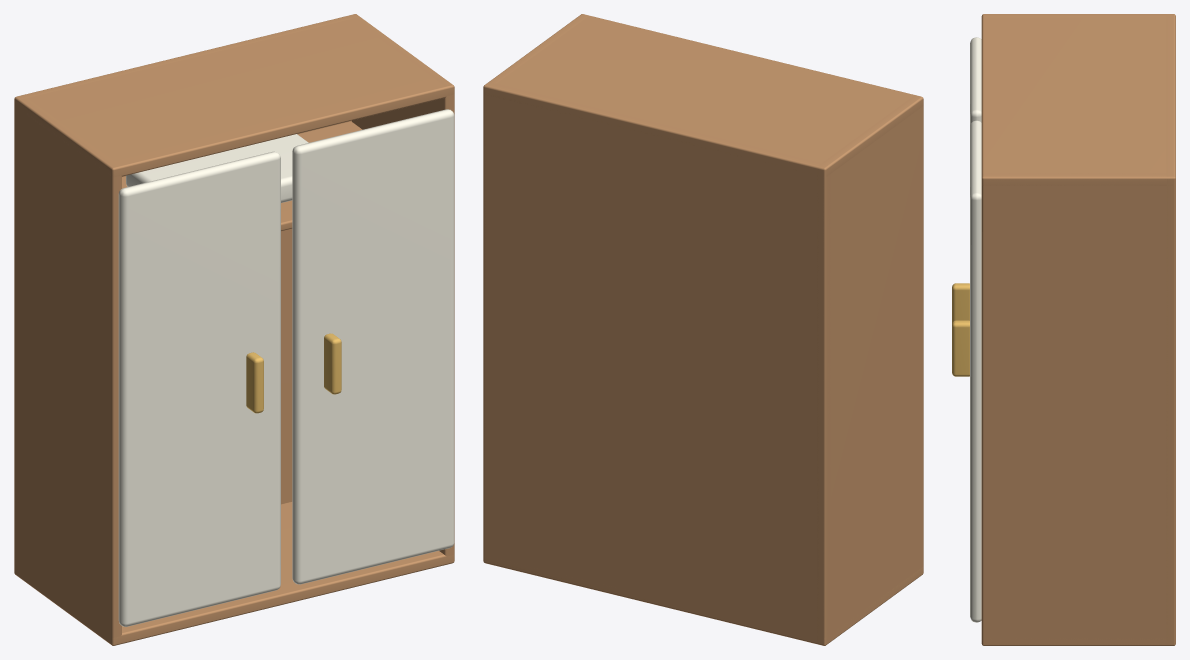
Rendered from japaneseCloset.glb.
3 renders of one model, left to right at view 1: azimuth 30°, elevation 25°; view 2: azimuth 150°, elevation 25°; view 3: azimuth 270°, elevation 25°, orthographic.
Parts seen in each view (by area): view 1: Cabinet door.001, Cabinet door, Storage inner side, Storage inner floor.001, Storage inner floor, Storage inner back, Stored folded linen, Storage inner side.001, Storage interior shelf, Door handle, Door handle.001; view 2: Storage inner back, Storage inner side, Storage inner floor.001, Storage inner side.001, Storage inner floor; view 3: Storage inner side.001, Storage inner floor.001, Storage inner back, Cabinet door.001, Door handle.001, Cabinet door, Storage inner side, Door handle, Storage inner floor.
Part boxes in pixels (x1,y1,x2,y2): Cabinet door.001: [292, 109, 454, 584]; Cabinet door: [118, 151, 280, 626]; Storage inner side: [14, 95, 121, 645]; Storage inner floor.001: [14, 18, 454, 177]; Storage inner floor: [18, 502, 454, 645]; Storage inner back: [14, 14, 359, 575]; Stored folded linen: [126, 134, 308, 202]; Storage inner side.001: [349, 14, 454, 562]; Storage interior shelf: [122, 121, 362, 231]; Door handle: [246, 352, 263, 413]; Door handle.001: [324, 333, 341, 394]; Storage inner back: [483, 82, 830, 645]; Storage inner side: [817, 95, 923, 645]; Storage inner floor.001: [484, 15, 923, 176]; Storage inner side.001: [483, 14, 588, 561]; Storage inner floor: [484, 555, 923, 645]; Storage inner side.001: [981, 173, 1175, 645]; Storage inner floor.001: [981, 17, 1174, 185]; Storage inner back: [1166, 14, 1175, 645]; Cabinet door.001: [970, 120, 981, 622]; Door handle.001: [952, 320, 969, 376]; Cabinet door: [970, 37, 981, 125]; Storage inner side: [981, 14, 1174, 18]; Door handle: [952, 283, 969, 323]; Storage inner floor: [984, 638, 1166, 645].
Bounding box in the file's own units: 1.5 × 2 × 0.865.
